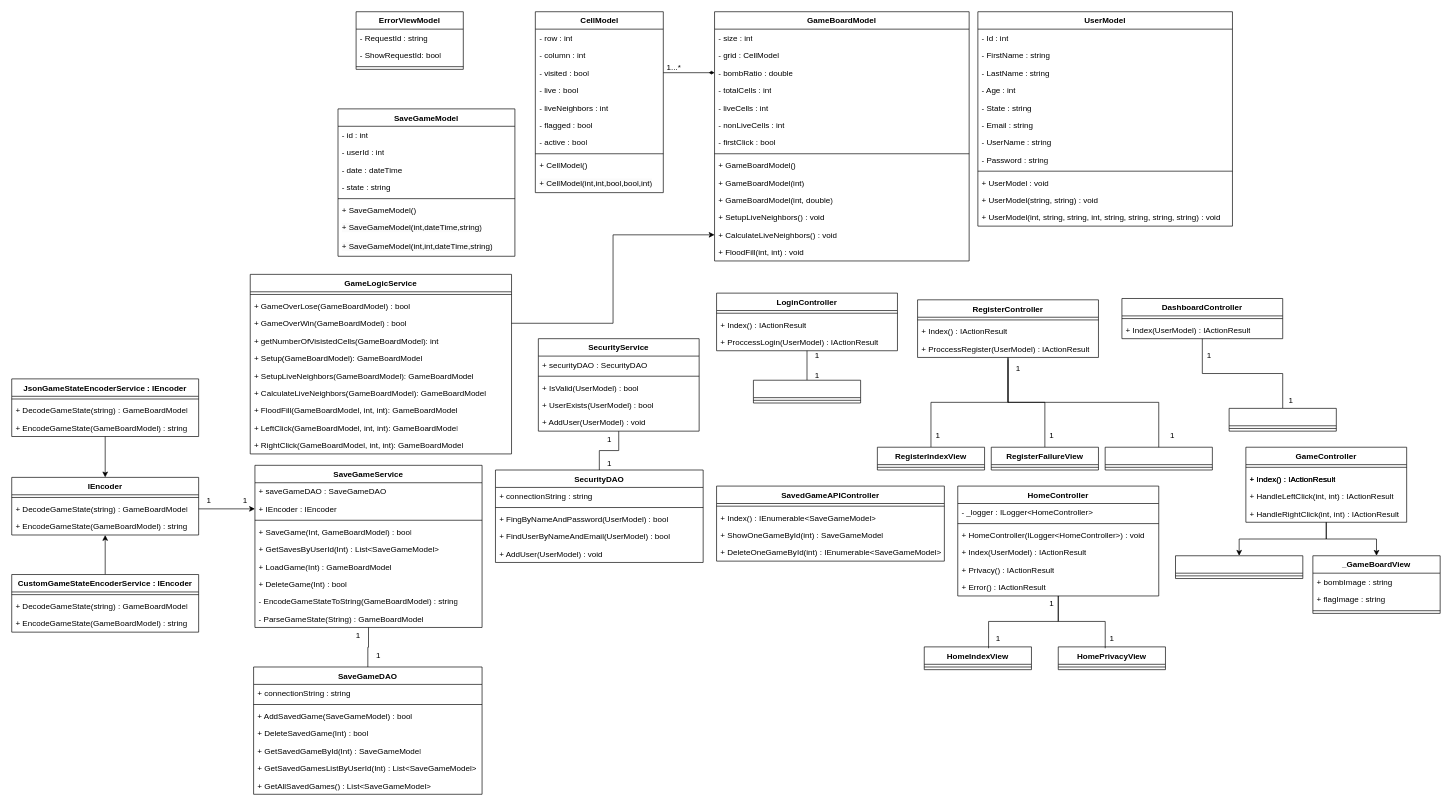
Some shapes in this 1452 by 808 pixel diagram are drawn without their labels. Each missing label, with the centre of its shape:
"_MinesweeperView" belongs at point 1239,567.
"DashboardIndexView" belongs at point 1282,419.
"LoginIndexView" belongs at point 807,391.
"RegisterSuccessView" belongs at point 1158,458.
